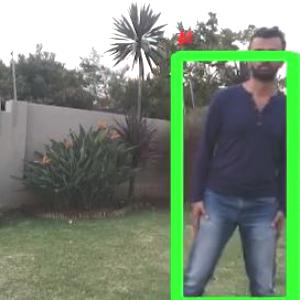follow: (186, 32, 294, 299)
